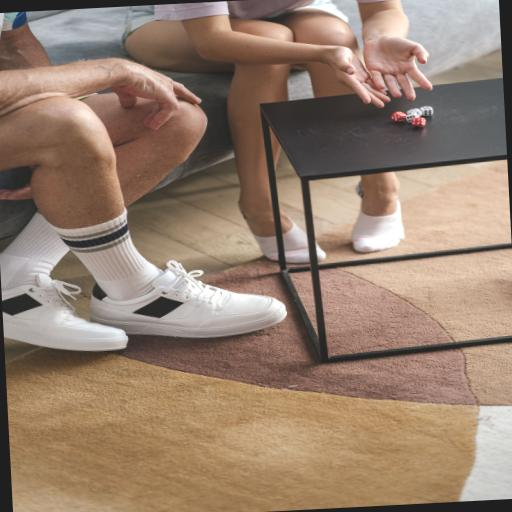shoe: (91, 261, 286, 337), (2, 274, 127, 351)
